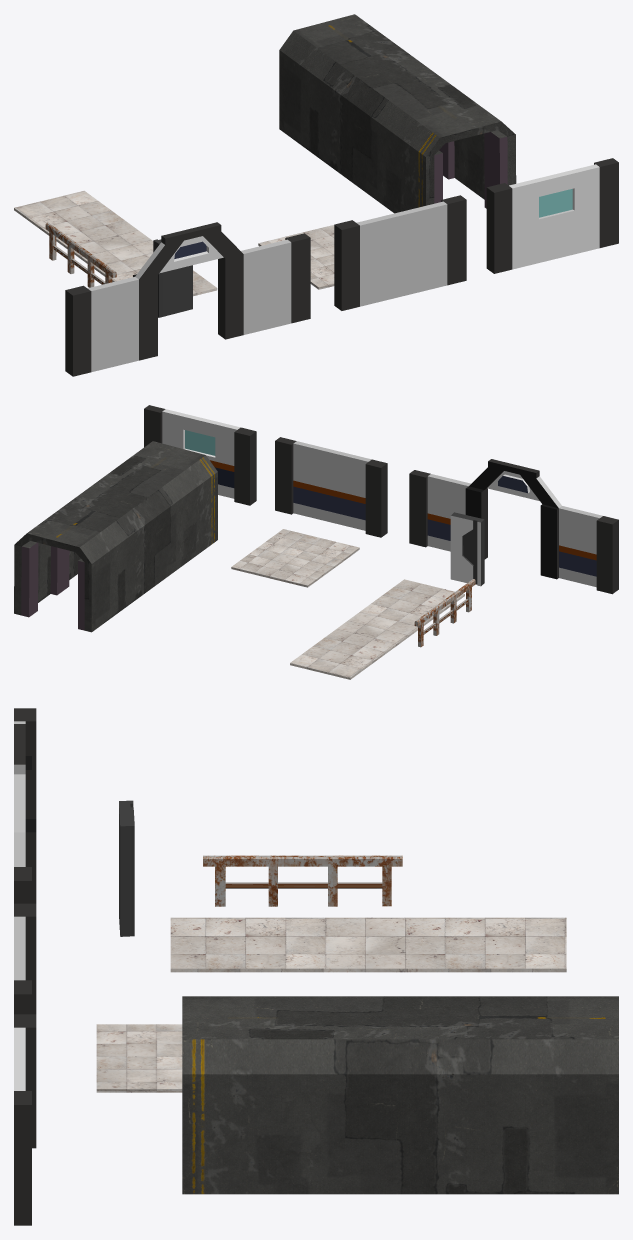
The model's file is DevKit Enviroment.fbx.
The picture shows the model from 3 angles, top to bottom: view 1: azimuth 30°, elevation 25°; view 2: azimuth 150°, elevation 25°; view 3: azimuth 270°, elevation 25°; orthographic projection. The views are drawn at different scales.
Parts seen in each view (by area): view 1: Tunel, Frame Dor, Wall, Wall and Window, Bridge, Floor, Door, Protector; view 2: Tunel, Frame Dor, Wall, Bridge, Wall and Window, Floor, Door, Protector; view 3: Tunel, Bridge, Floor, Protector, Frame Dor, Wall and Window, Wall, Door.
Boxes of the visible parts, x1,y1,x2,y2 form: Tunel: [279, 14, 516, 213]; Frame Dor: [65, 222, 310, 376]; Wall: [334, 195, 466, 310]; Wall and Window: [486, 158, 618, 273]; Bridge: [14, 190, 217, 296]; Floor: [258, 225, 334, 289]; Door: [153, 239, 192, 317]; Protector: [45, 222, 116, 287]; Tunel: [14, 441, 217, 632]; Frame Dor: [409, 459, 618, 594]; Wall: [275, 437, 387, 537]; Bridge: [290, 579, 464, 679]; Wall and Window: [144, 405, 256, 505]; Floor: [231, 529, 359, 587]; Door: [450, 512, 484, 586]; Protector: [414, 579, 475, 647]; Tunel: [182, 996, 618, 1194]; Bridge: [170, 917, 566, 972]; Floor: [96, 1024, 182, 1092]; Protector: [203, 855, 402, 906]; Frame Dor: [14, 708, 36, 903]; Wall and Window: [14, 1014, 36, 1225]; Wall: [14, 903, 36, 1014]; Door: [119, 800, 134, 936].
Size of the model in its own units: 12932 by 2651 by 8333.
